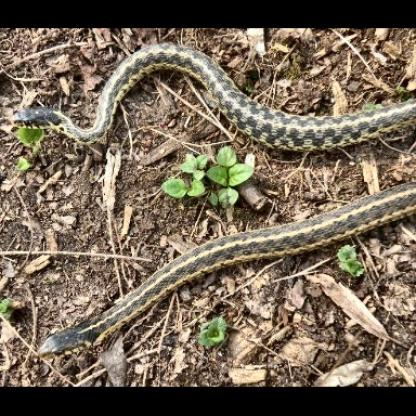Snake: (33, 172, 416, 361), (10, 44, 416, 152)
